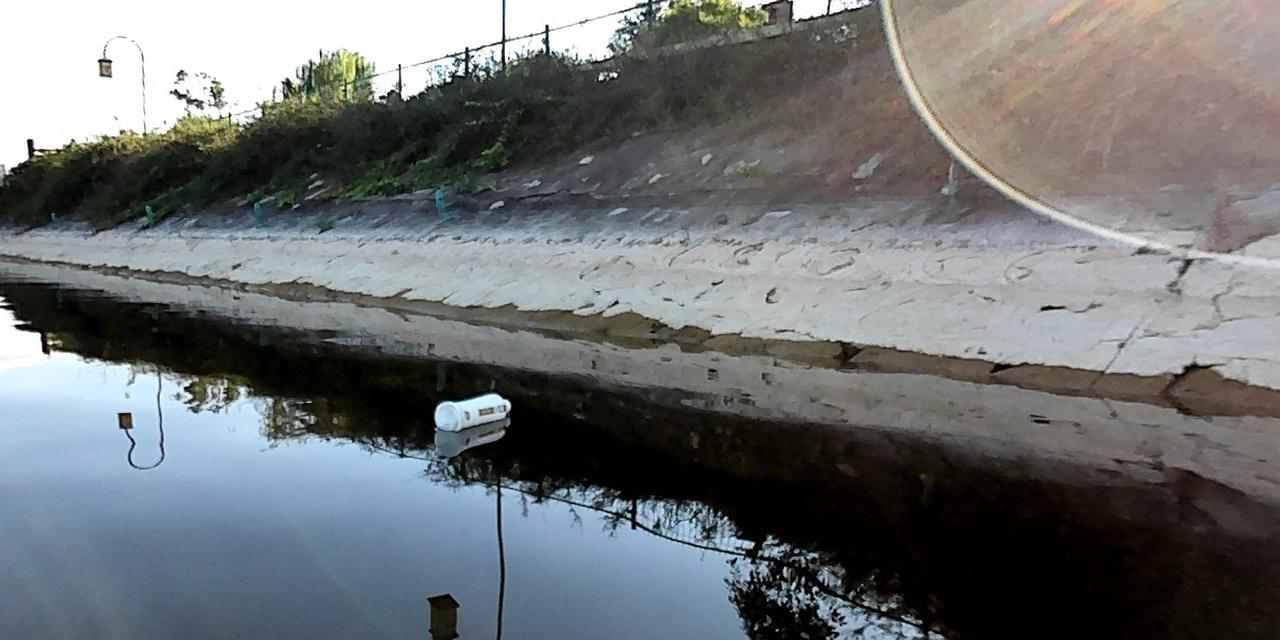bottle: (428, 390, 514, 429)
